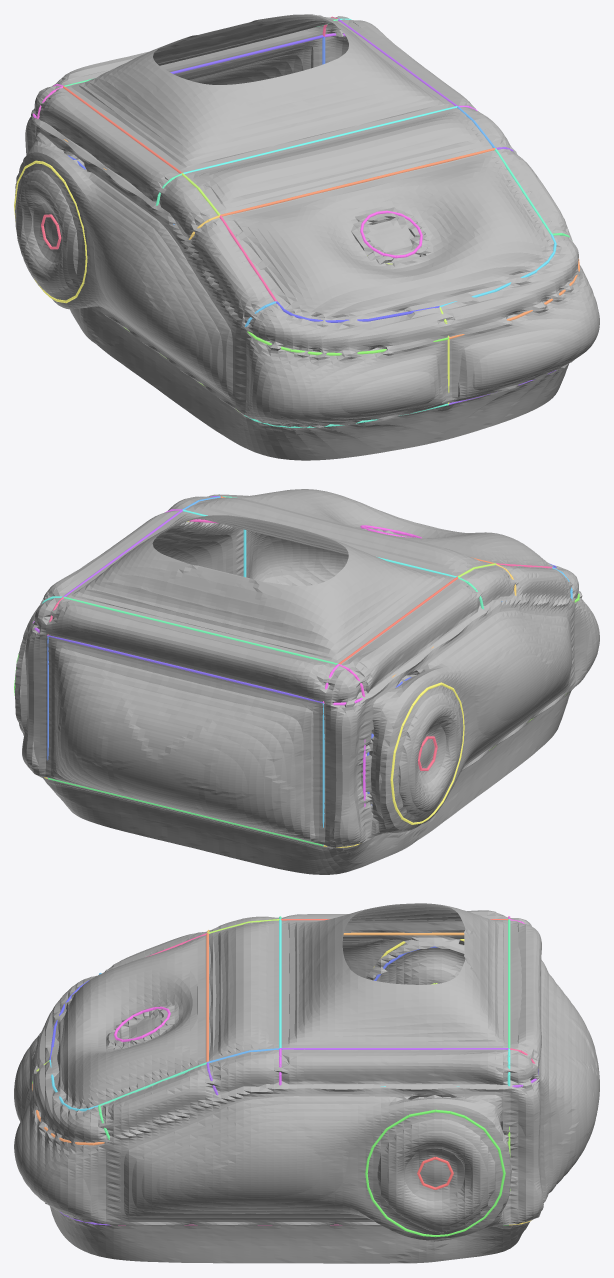
The model's file is onshape_vacuum.gltf.
3 renders of one model, top to bottom at view 1: azimuth 30°, elevation 25°; view 2: azimuth 150°, elevation 25°; view 3: azimuth 270°, elevation 25°, orthographic. The views are drawn at different scales.
Bounding box in the file's own units: 0.6629 × 0.3969 × 0.8633.
